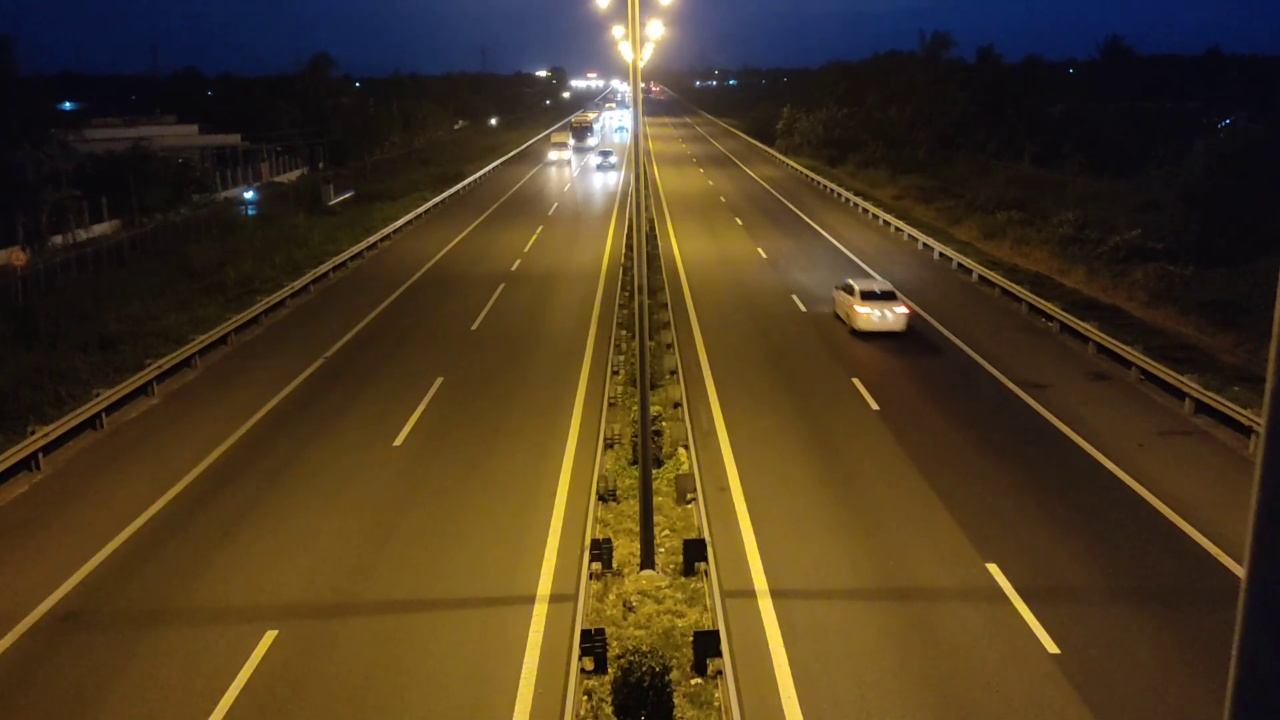car: (832, 275, 911, 333)
